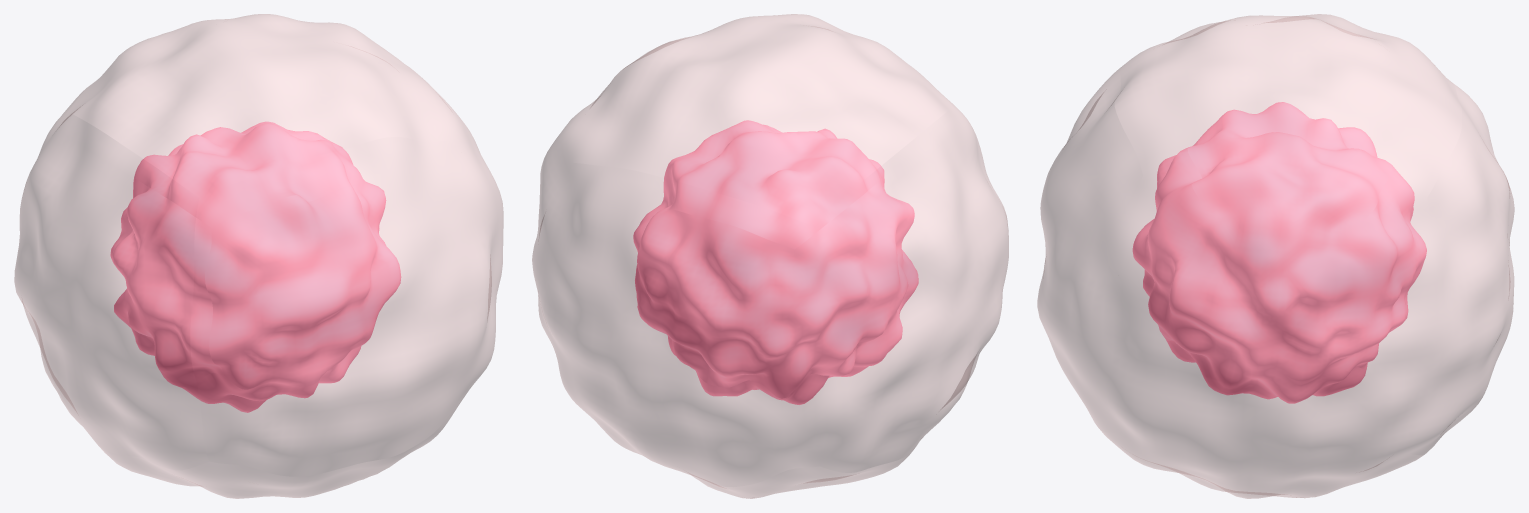
Rendered from StemCel_ani.gltf.
3 renders of one model, left to right at view 1: azimuth 30°, elevation 25°; view 2: azimuth 150°, elevation 25°; view 3: azimuth 270°, elevation 25°, orthographic. The views are drawn at different scales.
Visible parts, largest first — view 1: Wall, Core; view 2: Wall, Core; view 3: Wall, Core.
Boxes of the visible parts, x1,y1,x2,y2 form: Wall: (14, 14, 503, 498); Core: (110, 121, 401, 412); Wall: (532, 14, 1008, 498); Core: (633, 120, 918, 404); Wall: (1037, 14, 1514, 498); Core: (1132, 102, 1426, 403).
Bounding box in the file's own units: 2.97 × 3.05 × 2.97.
